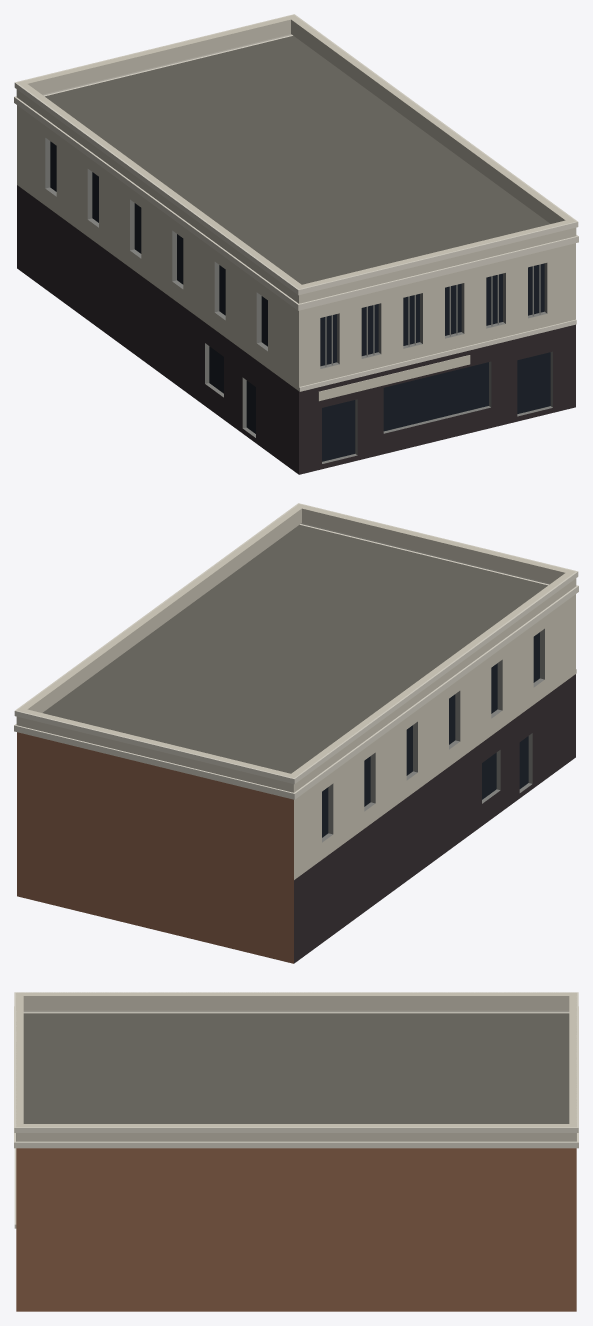
File: twin-city-bank-1961.glb
The picture shows the model from 3 angles, top to bottom: view 1: azimuth 30°, elevation 25°; view 2: azimuth 150°, elevation 25°; view 3: azimuth 270°, elevation 25°; orthographic projection.
Visible parts, largest first — view 1: twin_roof, twin_stone, twin_granite, twin_glass, twin_trim, twin_sash, twin_sign; view 2: twin_roof, twin_brick, twin_stone, twin_granite, twin_trim, twin_glass, twin_sash; view 3: twin_brick, twin_roof, twin_stone, twin_trim.
Part boxes in pixels (left/top/right/bottom): twin_roof: left=45, top=35, right=549, bottom=284; twin_stone: left=16, top=15, right=576, bottom=390; twin_granite: left=17, top=185, right=575, bottom=474; twin_glass: left=50, top=141, right=550, bottom=461; twin_trim: left=14, top=14, right=578, bottom=391; twin_sash: left=45, top=138, right=552, bottom=463; twin_sign: left=318, top=355, right=470, bottom=401; twin_roof: left=43, top=524, right=547, bottom=773; twin_brick: left=17, top=732, right=293, bottom=963; twin_stone: left=16, top=504, right=576, bottom=879; twin_granite: left=294, top=674, right=575, bottom=963; twin_trim: left=14, top=503, right=578, bottom=799; twin_glass: left=322, top=632, right=539, bottom=837; twin_sash: left=322, top=628, right=544, bottom=842; twin_brick: left=16, top=1148, right=576, bottom=1311; twin_roof: left=23, top=1013, right=569, bottom=1123; twin_stone: left=16, top=992, right=576, bottom=1141; twin_trim: left=14, top=992, right=578, bottom=1228.
Bounding box in the file's own units: 17.24 × 10.9 × 30.24.
